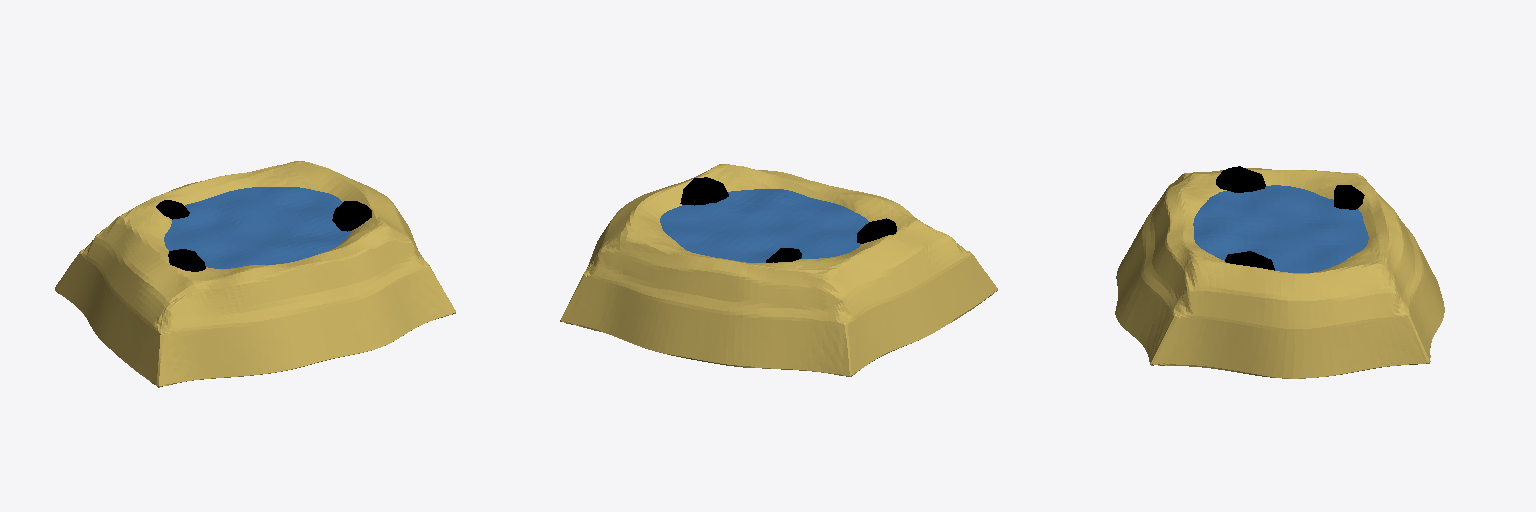
Rendered from pond.obj.
The picture shows the model from 3 angles: view 1: azimuth 30°, elevation 25°; view 2: azimuth 150°, elevation 25°; view 3: azimuth 270°, elevation 25°; orthographic projection.
Visible parts, largest first — view 1: sand pond, pond water, pond pPlatonic10 Rocks, pond Rocks pPlatonic12; view 2: sand pond, pond water, pond pPlatonic10 Rocks, pond Rocks pPlatonic12; view 3: sand pond, pond water, pond Rocks pPlatonic12, pond Rocks pPlatonic11, pond pPlatonic10 Rocks.
Boxes of the visible parts, <box> form: sand pond: <box>55,161,455,387</box>; pond water: <box>164,187,350,268</box>; pond pPlatonic10 Rocks: <box>332,201,371,231</box>; pond Rocks pPlatonic12: <box>168,249,205,271</box>; sand pond: <box>560,164,997,376</box>; pond water: <box>660,189,868,262</box>; pond pPlatonic10 Rocks: <box>680,177,728,205</box>; pond Rocks pPlatonic12: <box>857,218,896,243</box>; sand pond: <box>1115,168,1444,378</box>; pond water: <box>1193,185,1368,272</box>; pond Rocks pPlatonic12: <box>1216,166,1265,192</box>; pond Rocks pPlatonic11: <box>1334,185,1364,209</box>; pond pPlatonic10 Rocks: <box>1225,251,1274,270</box>.
Size of the model in its own units: 53.17 by 13.39 by 46.11.